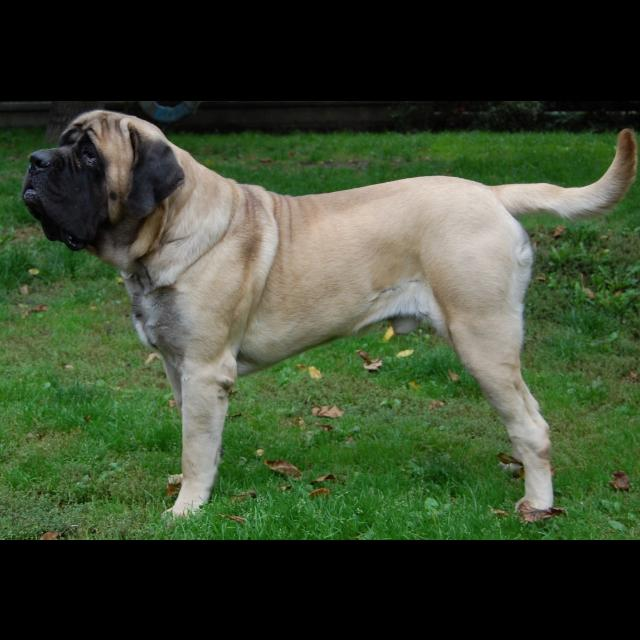mastiff: (22, 109, 638, 528)
